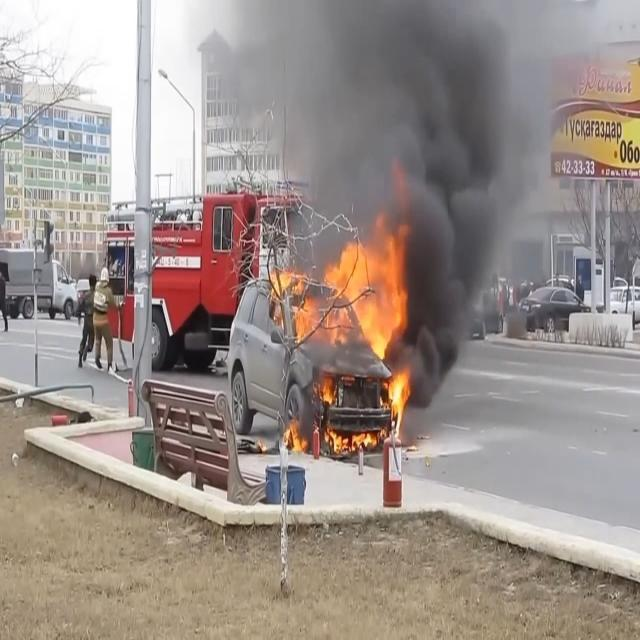fire: (268, 158, 420, 468)
